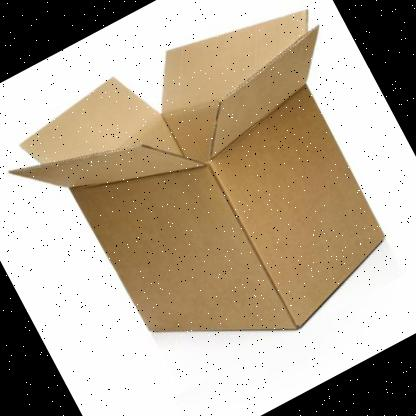box: (7, 7, 386, 332)
opened: (8, 8, 320, 188)
